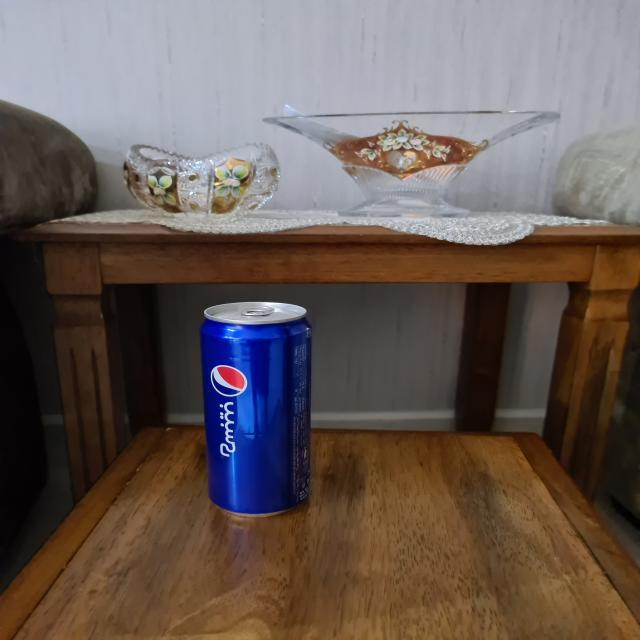can: (196, 300, 316, 526)
